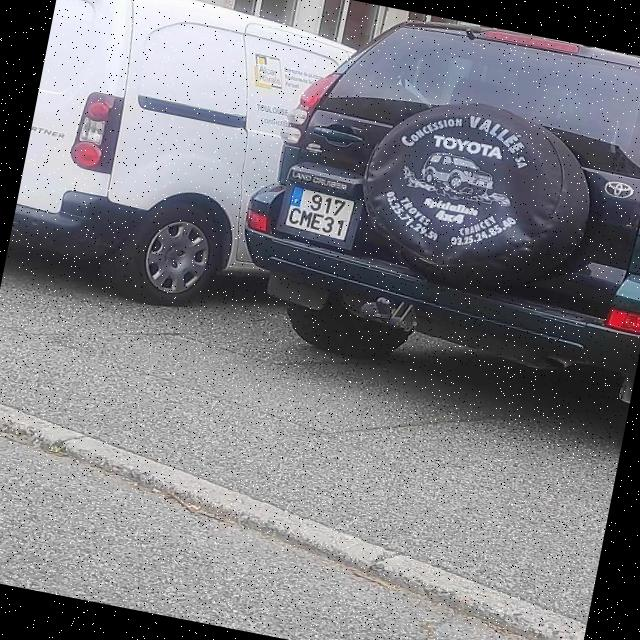EU: (284, 186, 358, 242)
France: (290, 186, 302, 208)
